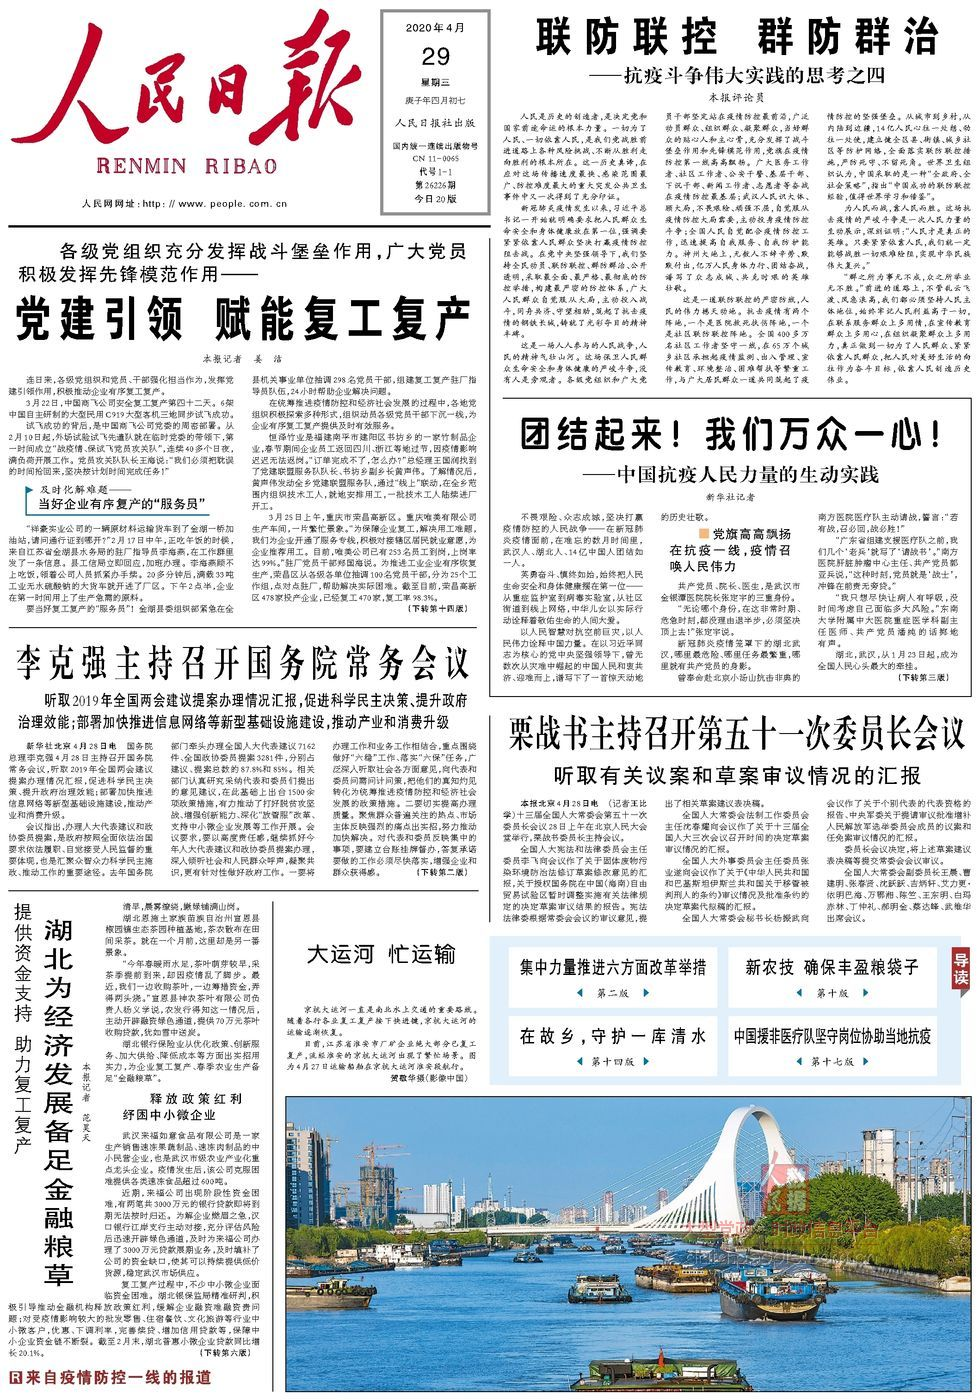pic: (280, 1091, 977, 1397)
